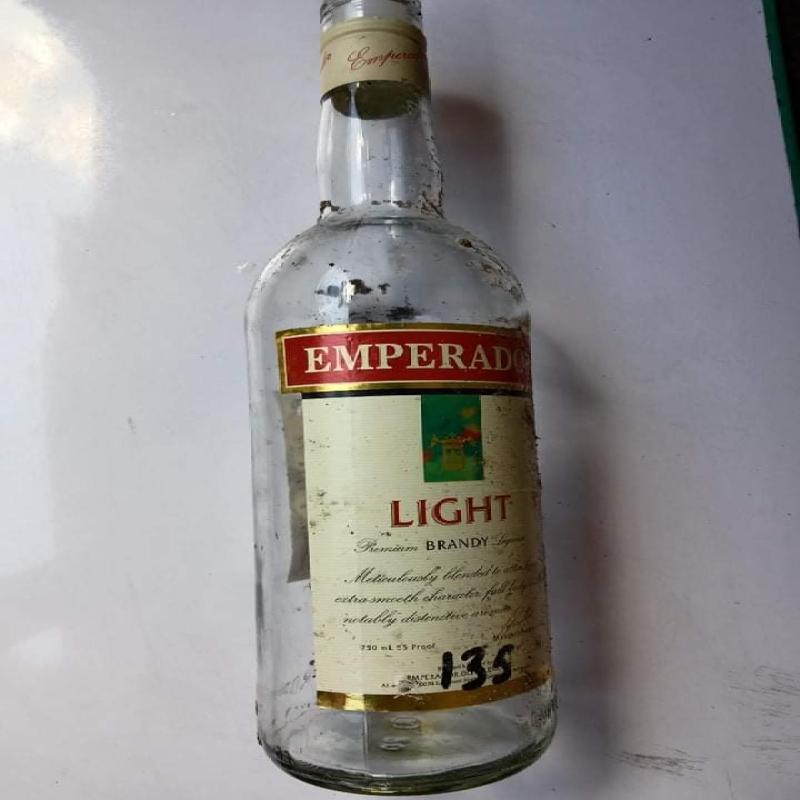glass bottle: (240, 0, 559, 799)
